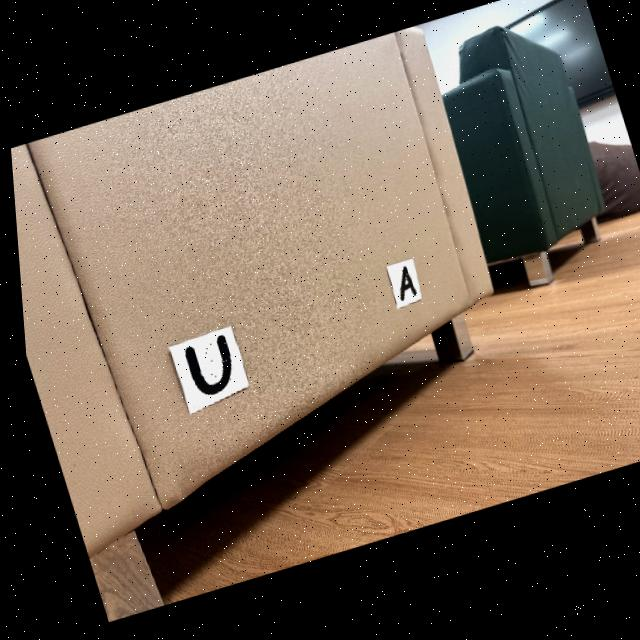A: (395, 271, 411, 306)
U: (179, 337, 225, 397)
